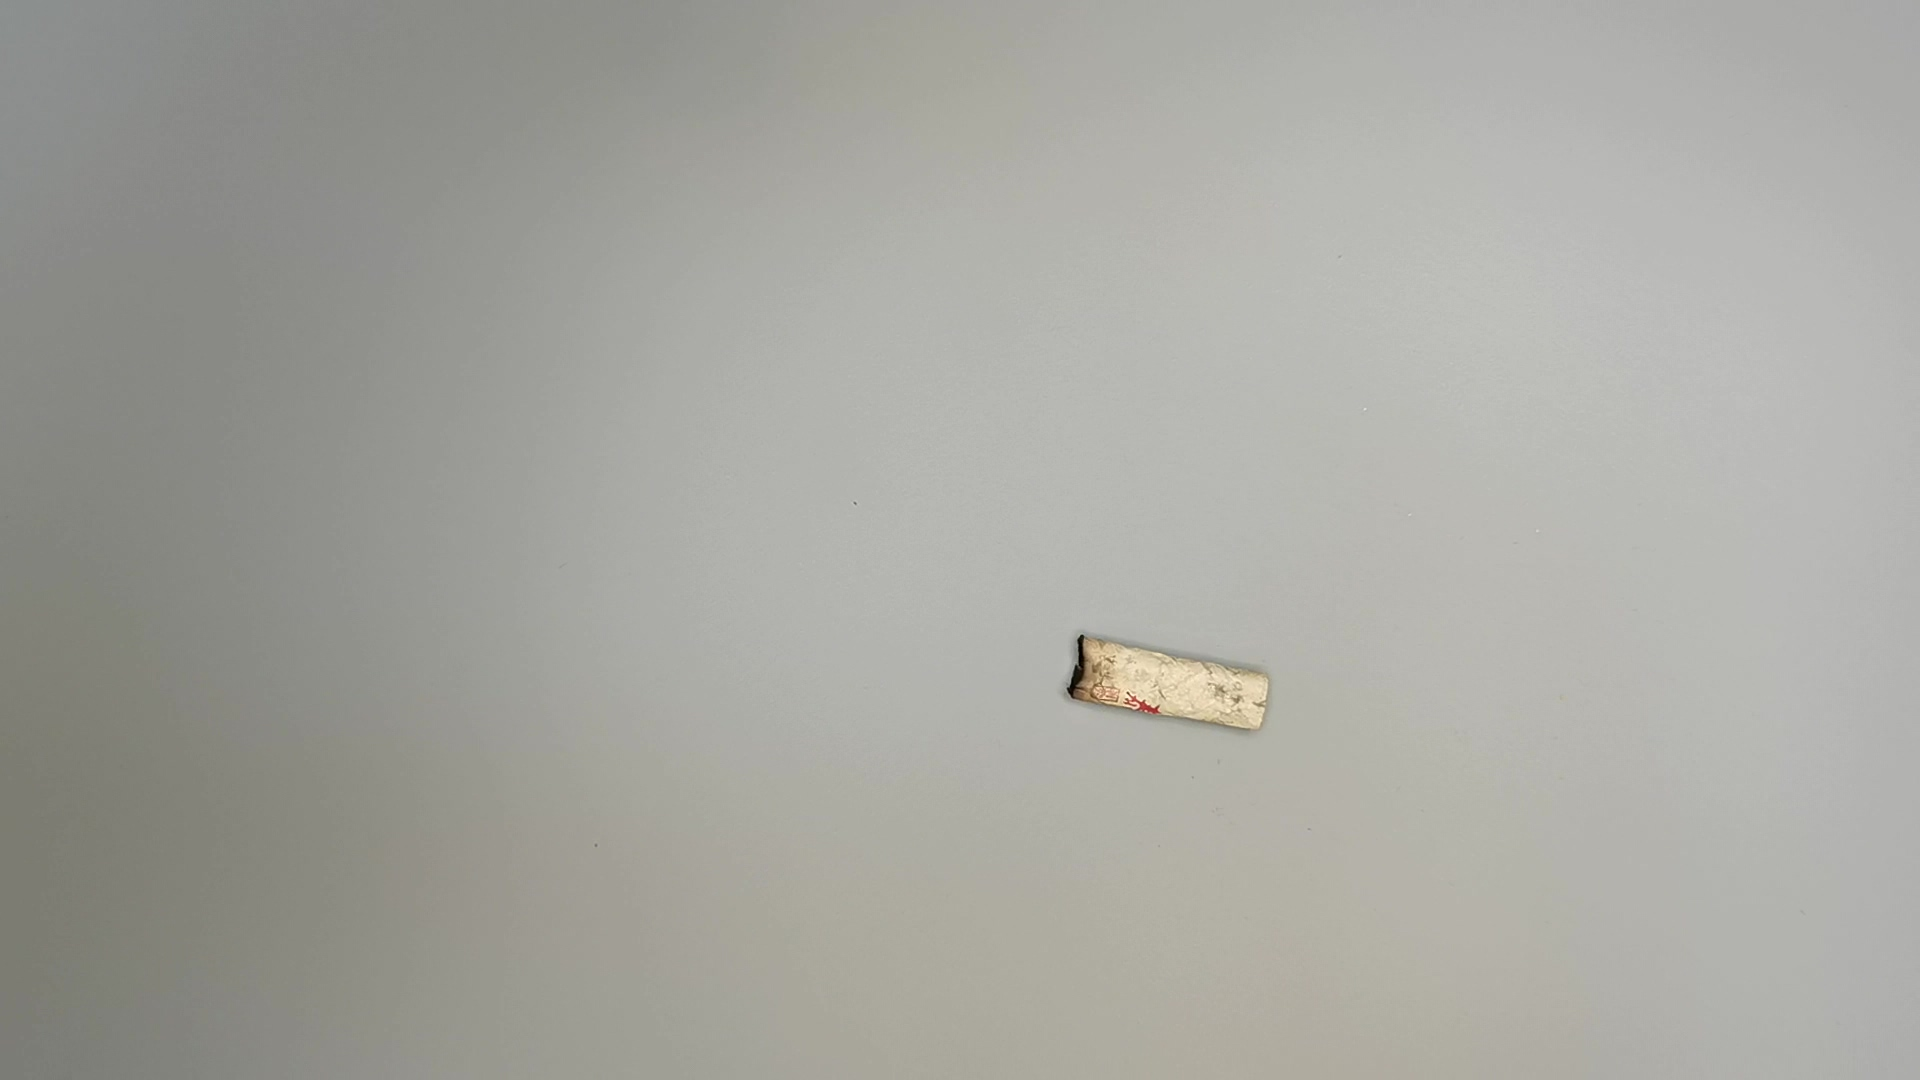cigarette: (1059, 620, 1278, 742)
